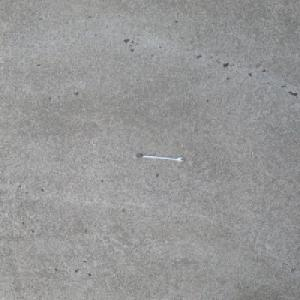Wrench: (134, 153, 185, 162)
